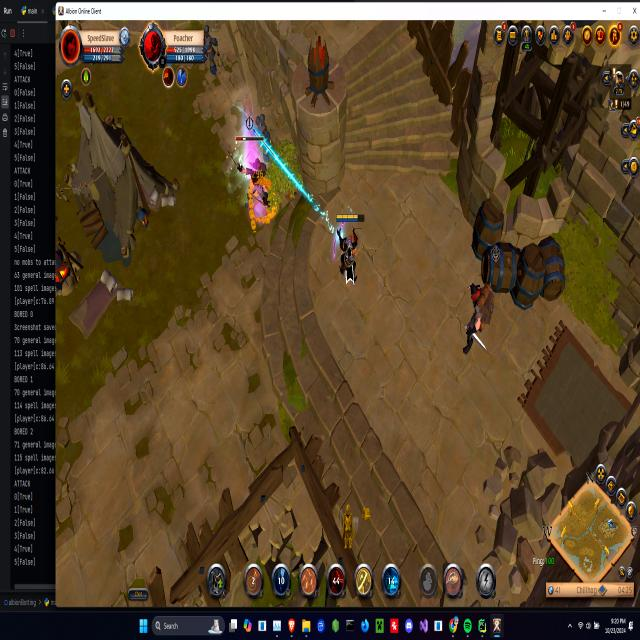ore: (458, 237, 504, 362), (236, 108, 274, 234)
red: (329, 208, 366, 291)
